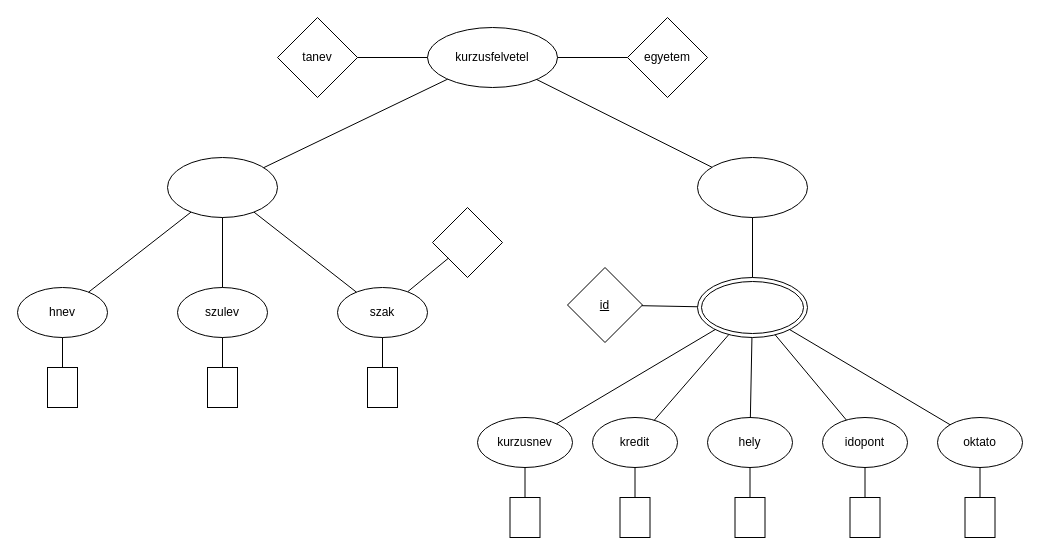
This 1040x555 diagram has some shape labels left out. Here are the shapes that lost their labels. From the top down, the centre of each, then its label:
At (x=222, y=187): "hallgato".
At (x=752, y=187): "kurzusok".
At (x=467, y=242): "evf".
At (x=752, y=307): "kurzus".
